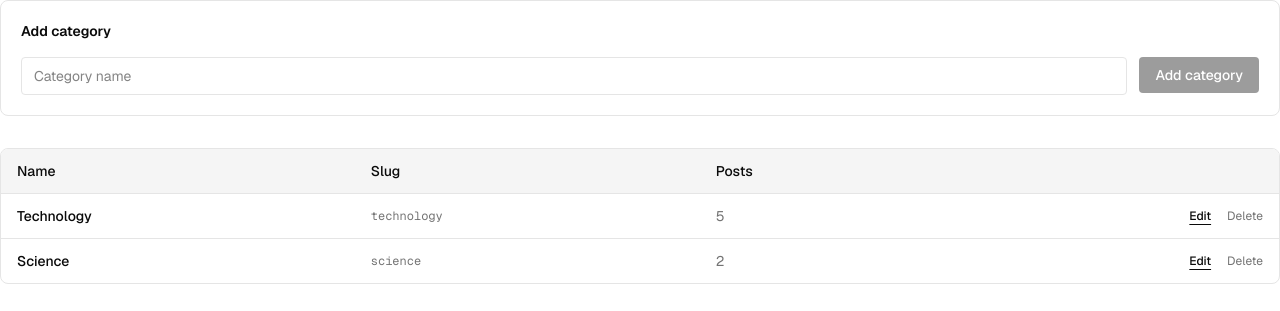
CategoryManager › clicking Edit enters inline edit mode
Click the 1st button "Edit" at (1200, 216), box [1189, 208, 1211, 224]
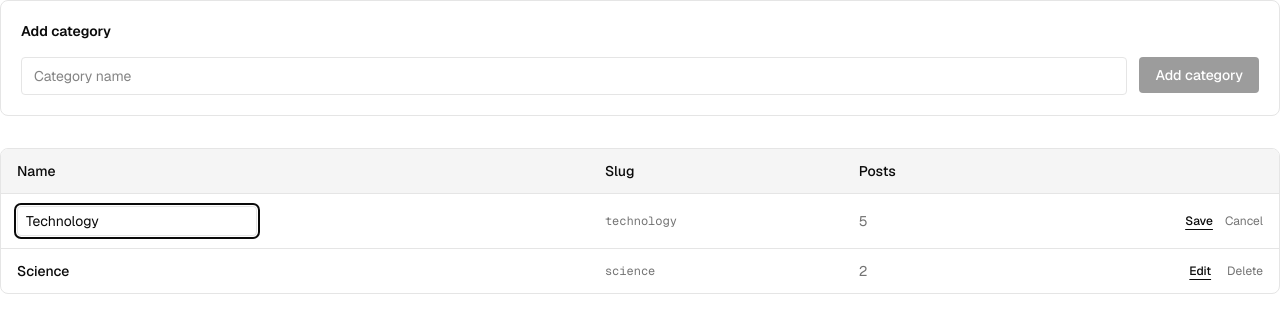
Result: the field showing "Technology" is shown at [17, 206, 257, 236]
